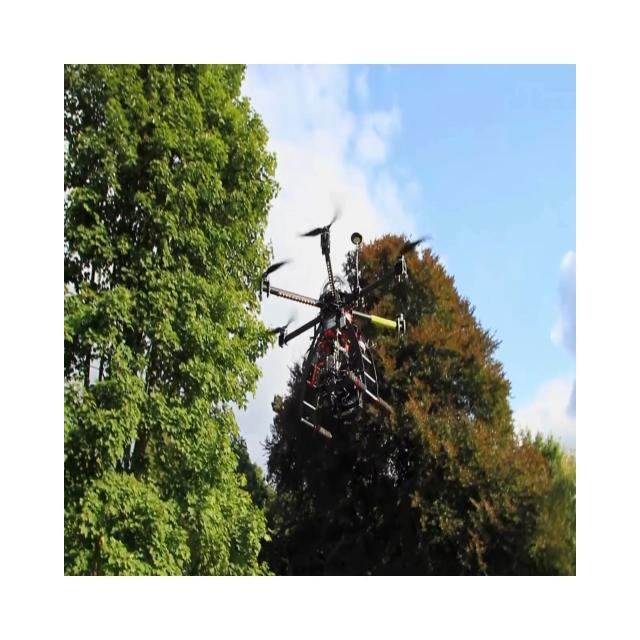drone: (256, 215, 432, 440)
